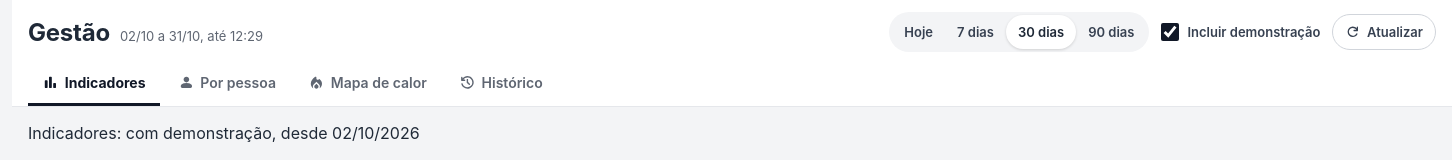
tela de gestão › mapa de calor ocupa a área toda
Click the tab "Mapa de calor": (367, 84) x1=294 y1=62 x2=441 y2=106
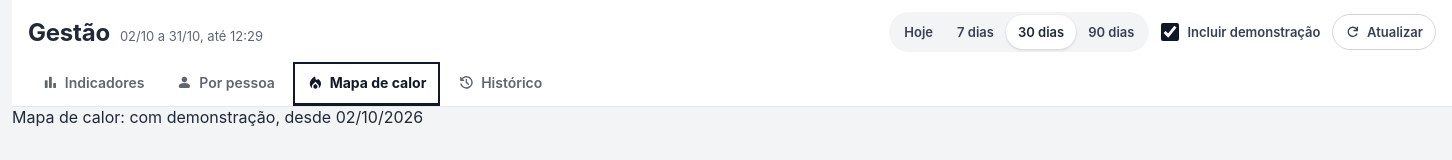
Expected: the text "Mapa de calor: com demonstração, desde 02/10/2026" is shown, x1=12 y1=107 x2=423 y2=127
